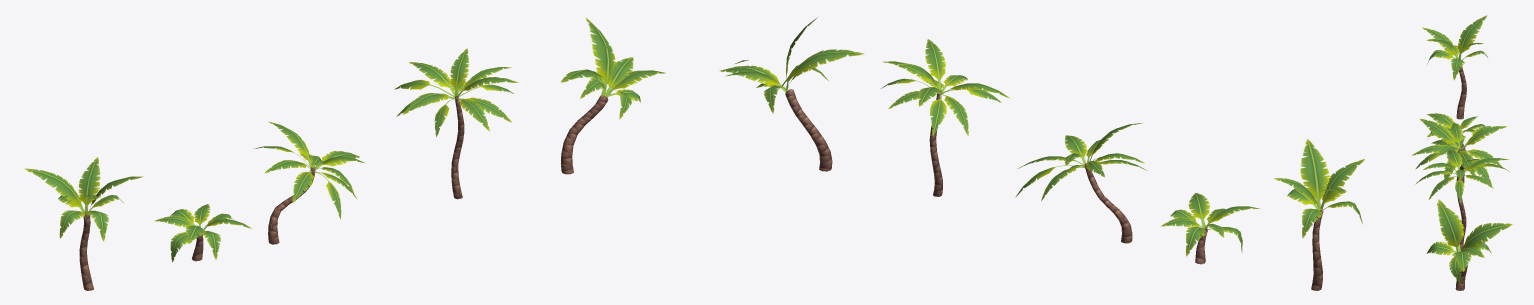
Rendered from Palm_Trees.glb.
The picture shows the model from 3 angles, left to right: view 1: azimuth 30°, elevation 25°; view 2: azimuth 150°, elevation 25°; view 3: azimuth 270°, elevation 25°; orthographic projection. The views are drawn at different scales.
Parts seen in each view (by area): view 1: PalmTree_1, PalmTree_2, PalmTree_3, PalmTree_4, PalmTree_5; view 2: PalmTree_1, PalmTree_3, PalmTree_2, PalmTree_4, PalmTree_5; view 3: PalmTree_2, PalmTree_4, PalmTree_3, PalmTree_1, PalmTree_5.
Boxes of the visible parts, bbox=[...] form: PalmTree_1: bbox=[394, 48, 518, 199]; PalmTree_2: bbox=[560, 18, 665, 174]; PalmTree_3: bbox=[24, 157, 143, 290]; PalmTree_4: bbox=[253, 121, 365, 244]; PalmTree_5: bbox=[155, 204, 251, 262]; PalmTree_1: bbox=[881, 39, 1010, 196]; PalmTree_3: bbox=[1274, 139, 1364, 290]; PalmTree_2: bbox=[720, 17, 863, 171]; PalmTree_4: bbox=[1015, 122, 1147, 243]; PalmTree_5: bbox=[1161, 193, 1260, 264]; PalmTree_2: bbox=[1426, 199, 1512, 290]; PalmTree_4: bbox=[1412, 119, 1507, 185]; PalmTree_3: bbox=[1422, 15, 1487, 119]; PalmTree_1: bbox=[1415, 150, 1509, 249]; PalmTree_5: bbox=[1427, 113, 1485, 152].
Bounding box in the file's own units: 25.91 × 5.28 × 5.24.
2 materials, 2 textured.
